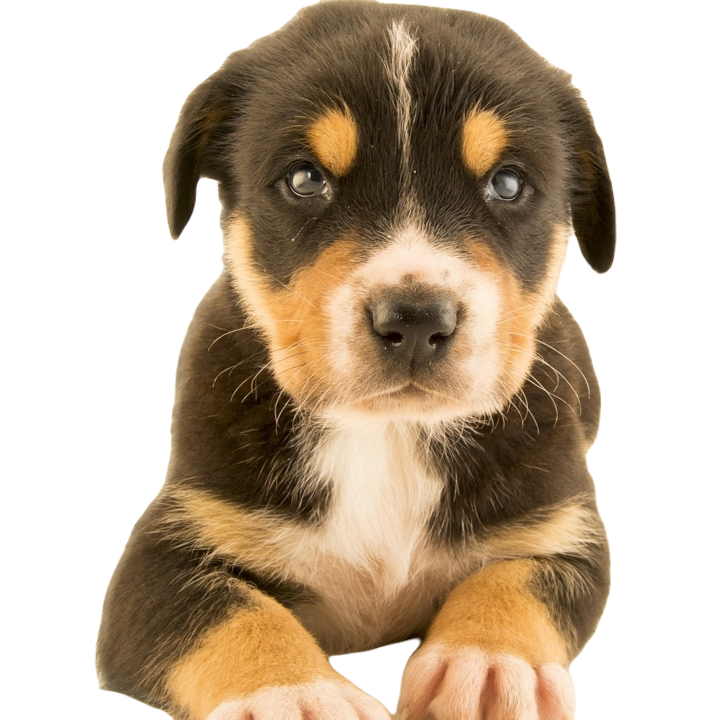Dog: (92, 0, 620, 720)
